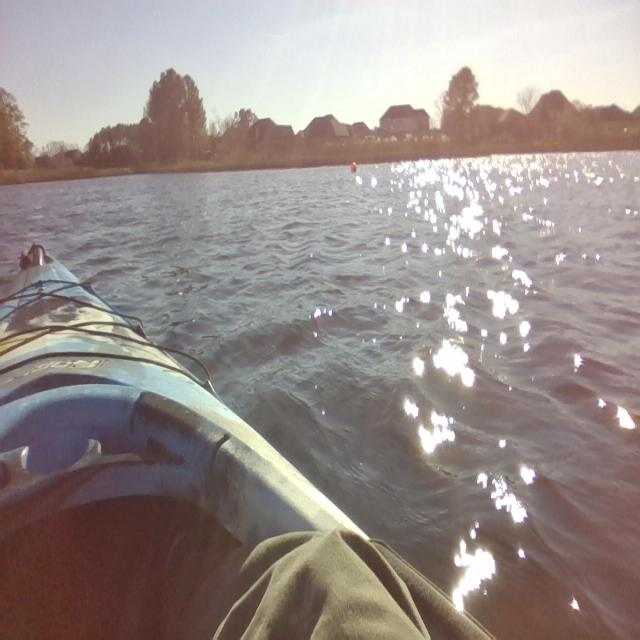Buoy: (347, 157, 359, 178)
